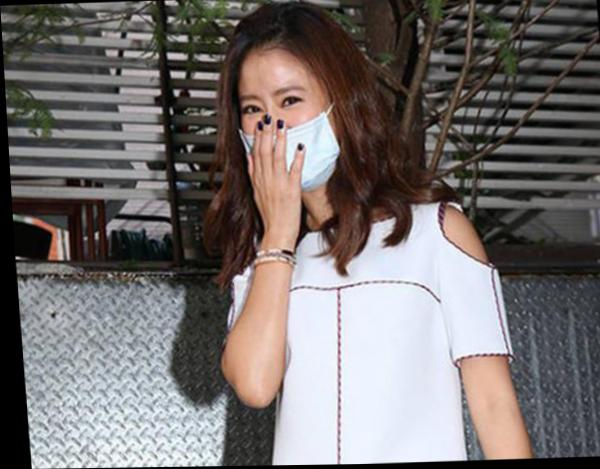WRONG: (232, 67, 344, 192)
